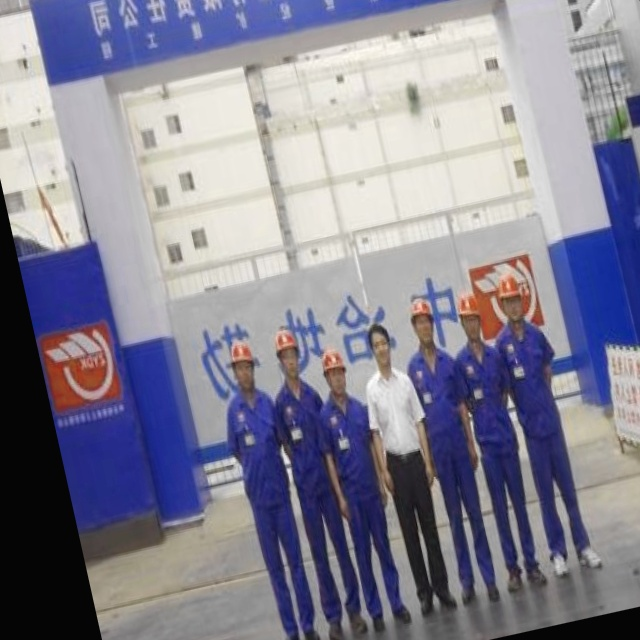Con_Casco: (405, 297, 442, 351)
Sin_Casco_Mascarrilla: (365, 322, 400, 373)
